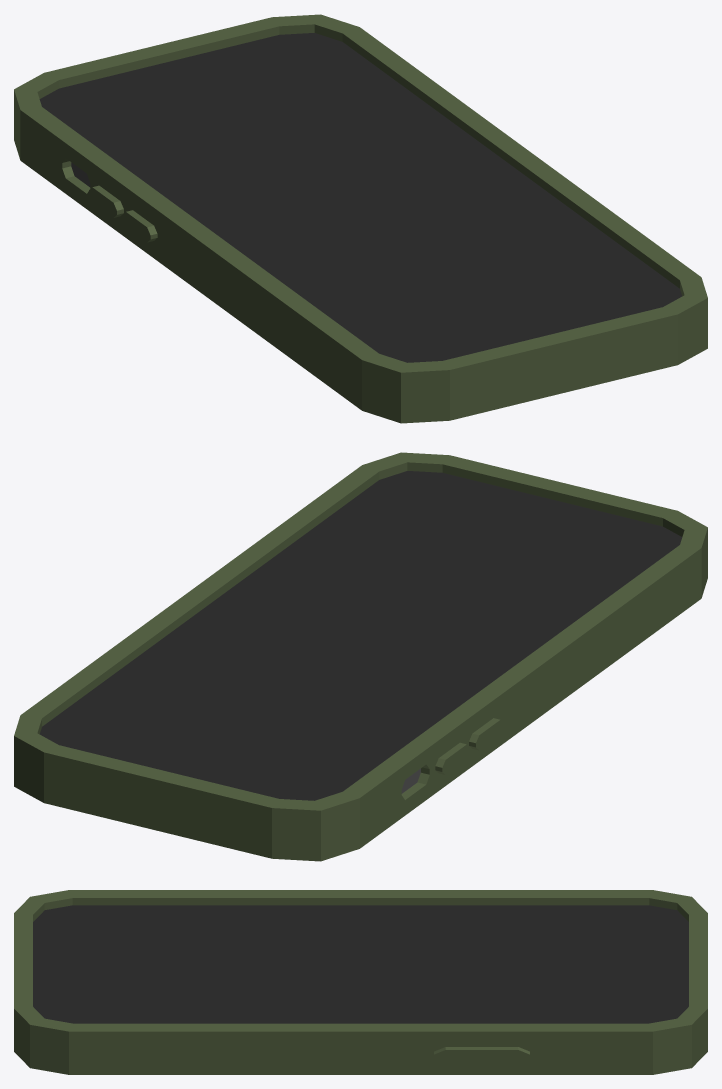
File: SM_Props_Cellphone_01.fbx
The picture shows the model from 3 angles, top to bottom: view 1: azimuth 30°, elevation 25°; view 2: azimuth 150°, elevation 25°; view 3: azimuth 270°, elevation 25°; orthographic projection. The views are drawn at different scales.
Visible parts, largest first — view 1: SM_Props_Cellphone_01; view 2: SM_Props_Cellphone_01; view 3: SM_Props_Cellphone_01.
Boxes of the visible parts, box(x1,y1,x2,y2) form: SM_Props_Cellphone_01: box(14, 14, 707, 423); SM_Props_Cellphone_01: box(14, 452, 707, 861); SM_Props_Cellphone_01: box(14, 890, 707, 1074).
Bounding box in the file's own units: 0.0729 × 0.01 × 0.145.
